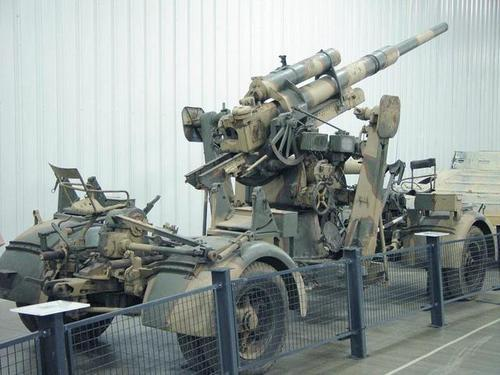MIL_SPG: (0, 23, 493, 312)
